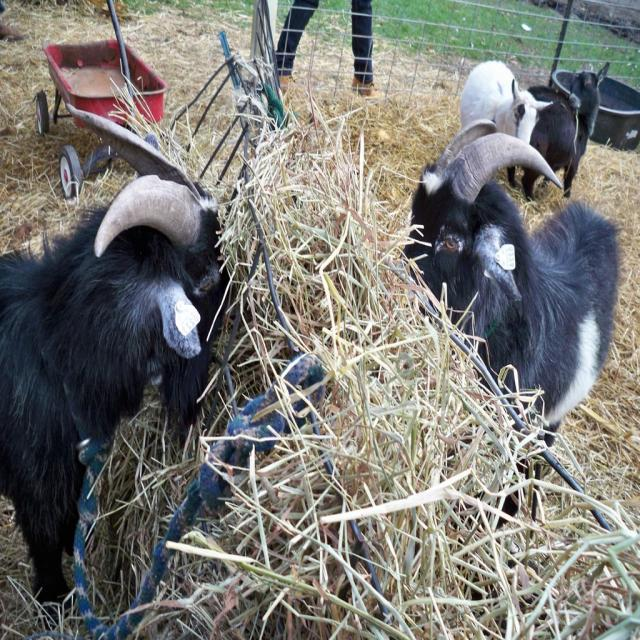Goat: (1, 171, 226, 622), (460, 59, 556, 192), (521, 61, 611, 202)
